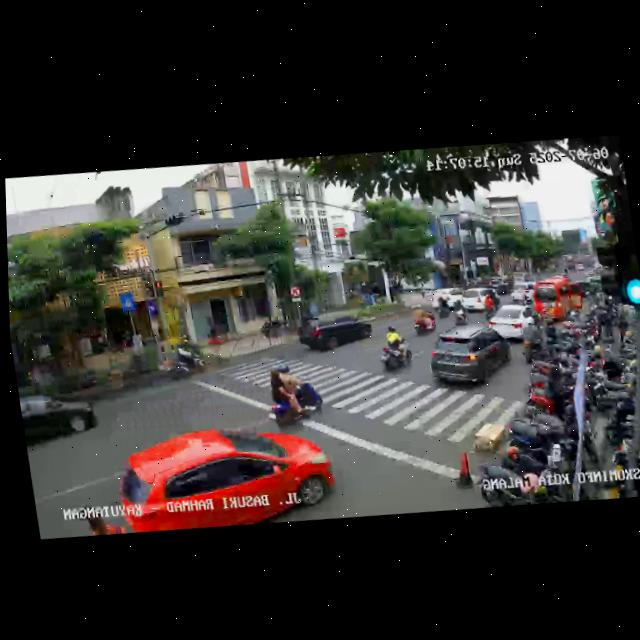car: (108, 409, 340, 544), (421, 319, 515, 395), (18, 379, 101, 460), (298, 305, 376, 358), (530, 274, 588, 329), (485, 299, 537, 346), (459, 283, 500, 316), (430, 284, 466, 315), (508, 280, 534, 305)
motorcycle: (259, 357, 327, 434), (155, 336, 209, 385), (376, 322, 414, 374), (409, 300, 437, 338), (450, 295, 470, 328), (481, 294, 498, 324), (433, 293, 449, 318)
